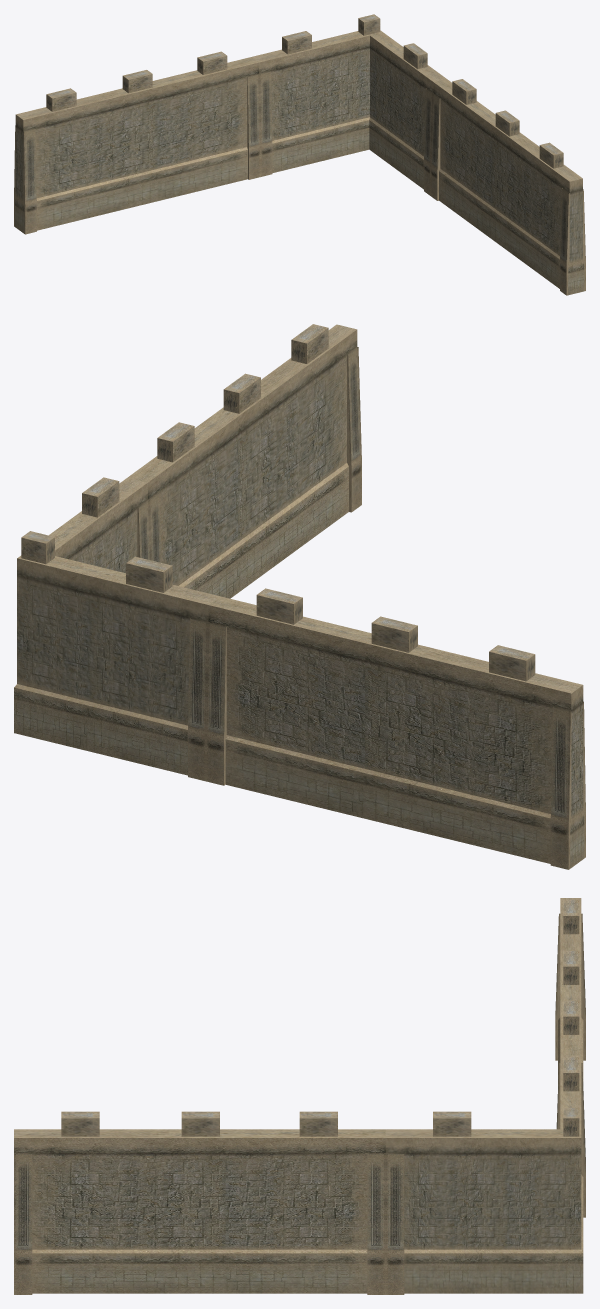
Rendered from desert-bigdam-05.fbx.
3 views of the same model, one above another, from view 1: azimuth 30°, elevation 25°; view 2: azimuth 150°, elevation 25°; view 3: azimuth 270°, elevation 25° (orthographic). The views are drawn at different scales.
Visible parts, largest first — view 1: desert-bigdam-01; view 2: desert-bigdam-01; view 3: desert-bigdam-01.
Part boxes in pixels (x1,y1,x2,y2): desert-bigdam-01: (14,14,585,295); desert-bigdam-01: (14,324,585,869); desert-bigdam-01: (14,898,585,1294).
Bounding box in the file's own units: 15.41 × 5.14 × 15.39.
